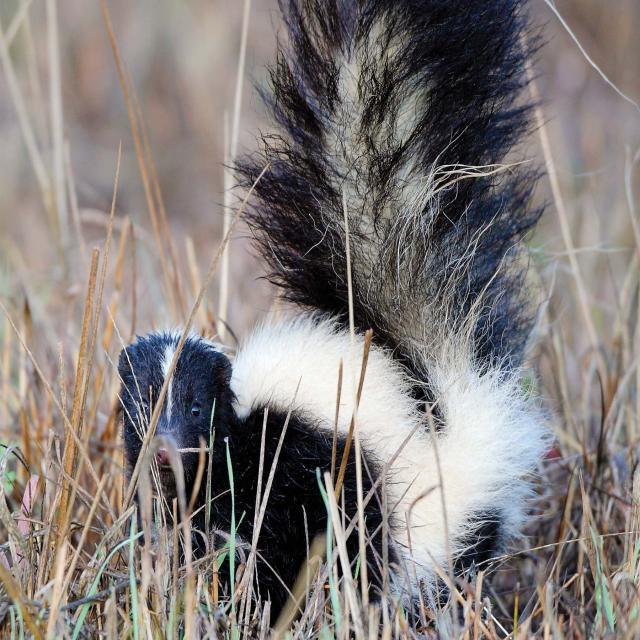Skunk: (106, 0, 552, 620)
